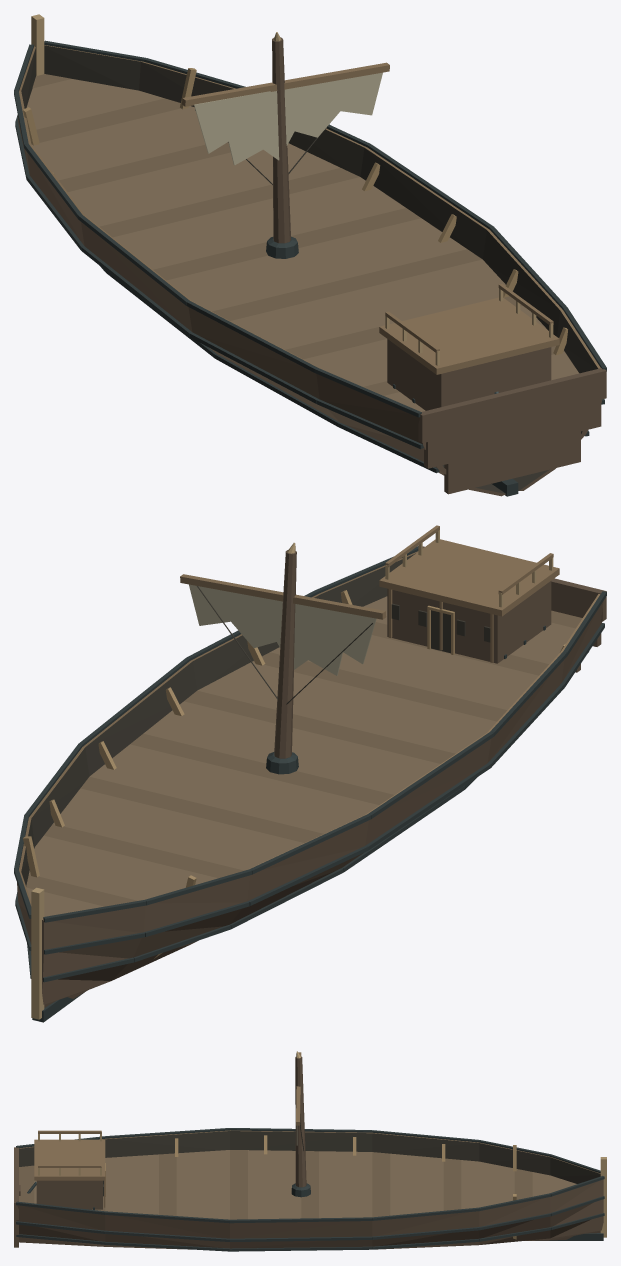
File: SW_Map_AbandonedCog.fbx
3 views of the same model, one above another, from view 1: azimuth 30°, elevation 25°; view 2: azimuth 150°, elevation 25°; view 3: azimuth 270°, elevation 25° (orthographic). The views are drawn at different scales.
Parts seen in each view (by area): view 1: SW_Map_AbandonedCog; view 2: SW_Map_AbandonedCog; view 3: SW_Map_AbandonedCog.
Part boxes in pixels (x1,y1,x2,y2): SW_Map_AbandonedCog: (14,14,606,496); SW_Map_AbandonedCog: (14,525,606,1022); SW_Map_AbandonedCog: (14,1051,606,1251).
Size of the model in its own units: 0.6056 by 0.5623 by 1.63.
